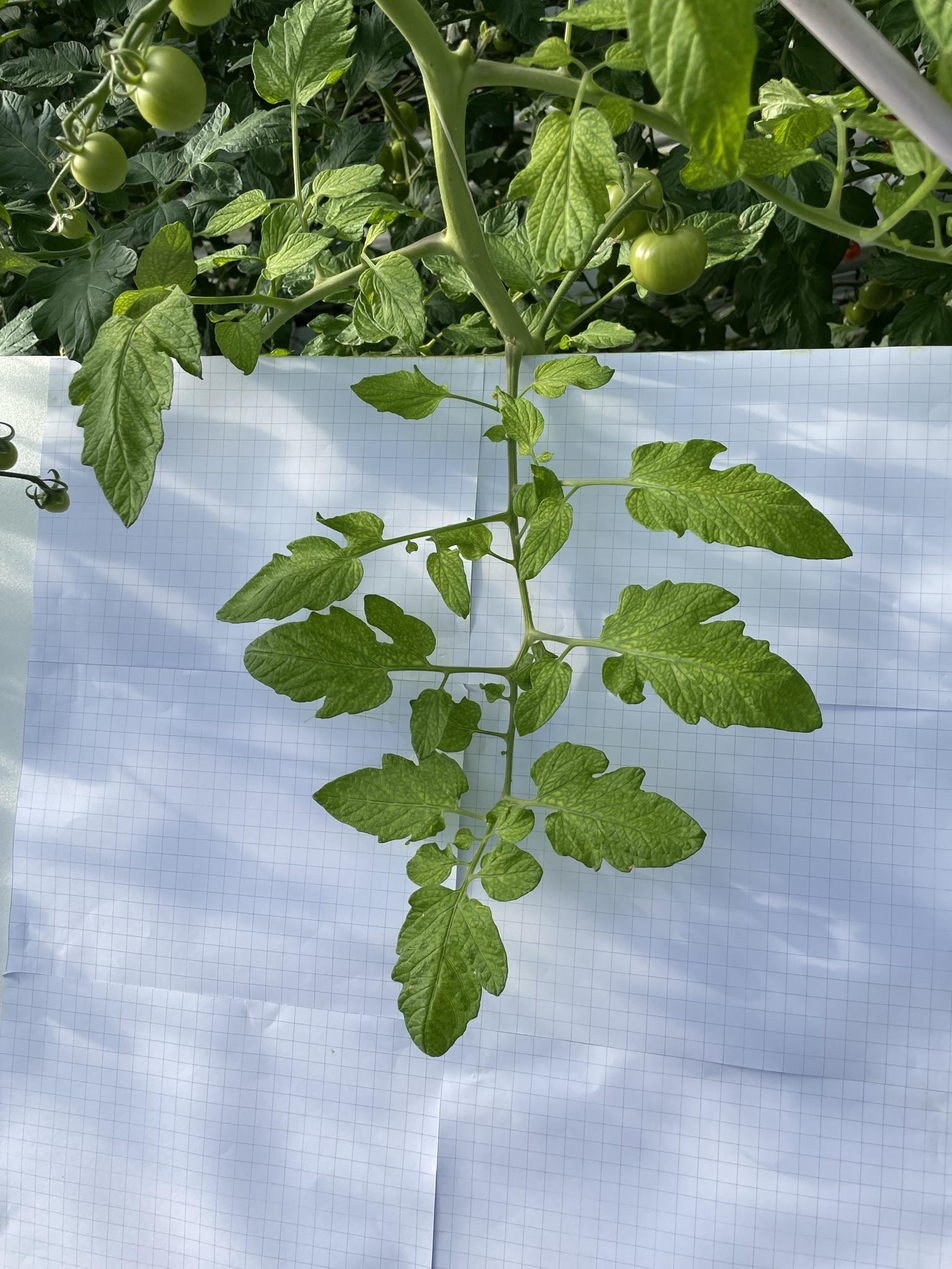Iron Deficiency: (597, 577, 827, 735), (68, 285, 205, 531), (622, 436, 855, 564), (526, 740, 712, 875), (238, 599, 439, 721), (392, 883, 514, 1063), (212, 509, 385, 625), (506, 105, 623, 274), (310, 748, 470, 854), (249, 0, 361, 105), (357, 252, 428, 354), (350, 362, 450, 427), (312, 191, 426, 244), (516, 493, 575, 584), (512, 656, 573, 738), (519, 495, 574, 583), (133, 221, 198, 295), (479, 841, 544, 903), (532, 353, 617, 400), (261, 230, 335, 283), (201, 185, 273, 239), (483, 231, 542, 295), (497, 384, 546, 458), (308, 163, 386, 207), (214, 310, 263, 380), (426, 547, 471, 620), (742, 135, 817, 178), (426, 515, 494, 561), (409, 687, 450, 761), (538, 0, 629, 32), (406, 841, 457, 888), (484, 799, 536, 844), (516, 34, 574, 70), (605, 38, 647, 72)
